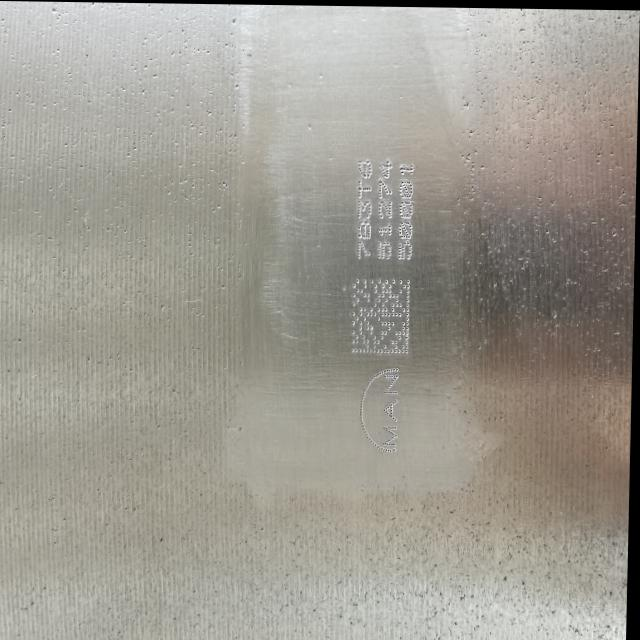dmc: (353, 277, 412, 352)
